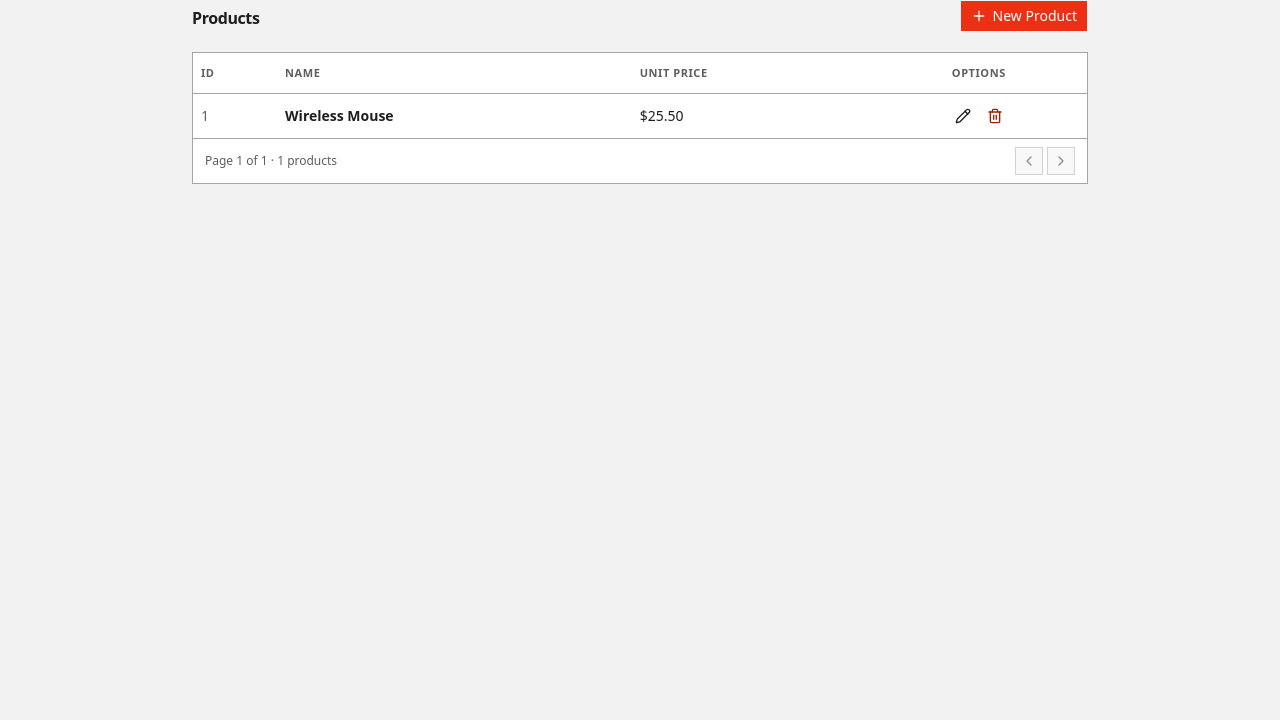
Test: Products page › shows a validation error instead of submitting when the name is empty
Expected: the text "Wireless Mouse" is shown, [277,93,632,138]
Click the button "New Product" at [1024, 16], box [960,0,1088,32]
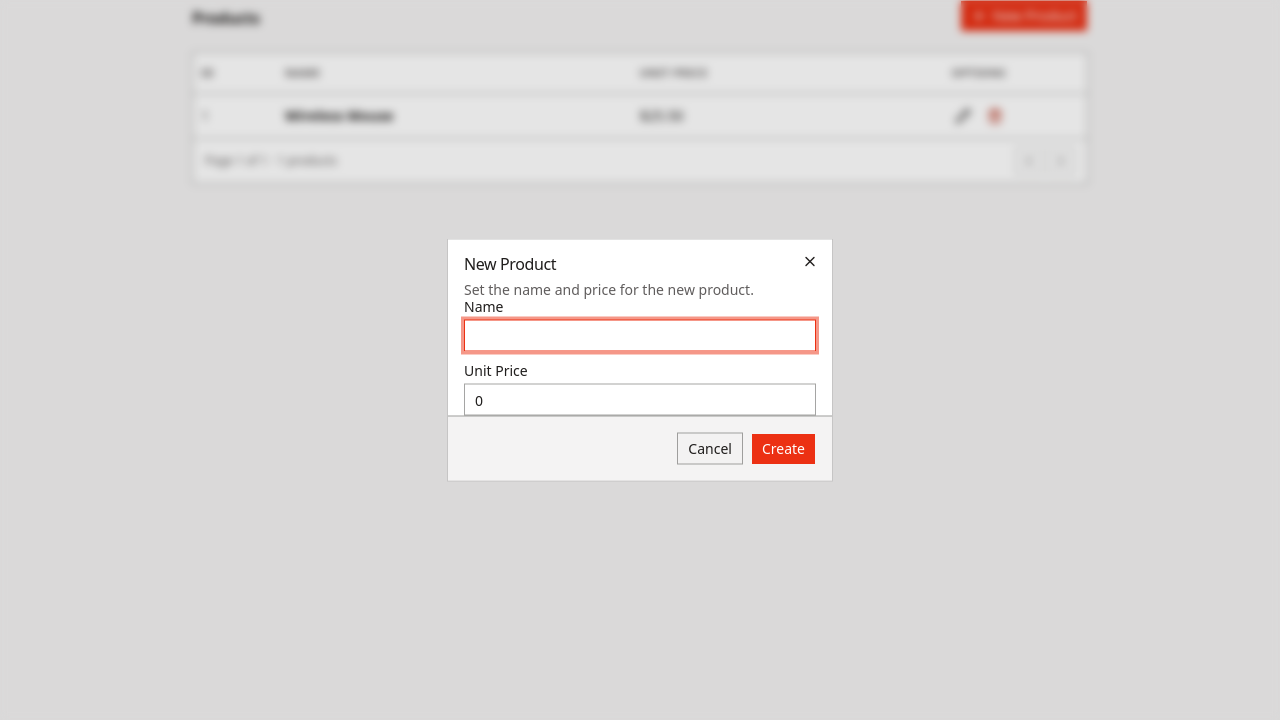
Click the button "Create" at [783, 448], box [751,432,816,464]
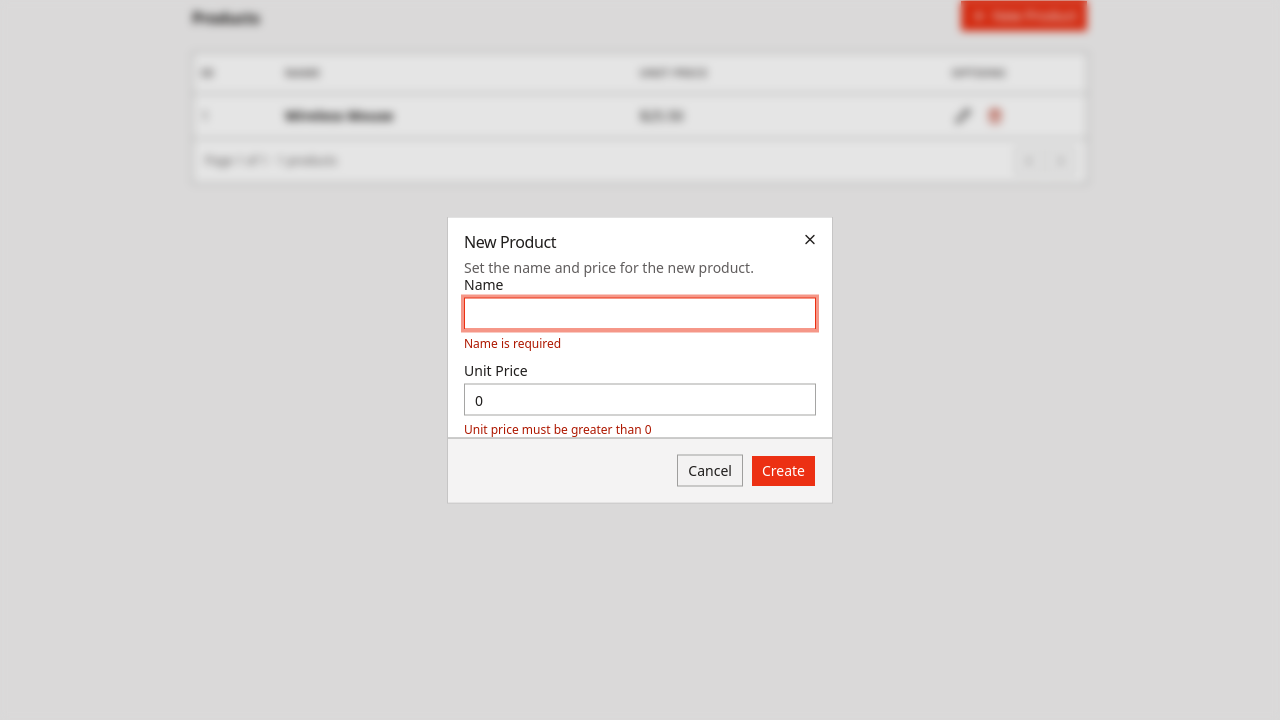
Now the text "Name is required" is shown, box [464,334,561,352]
